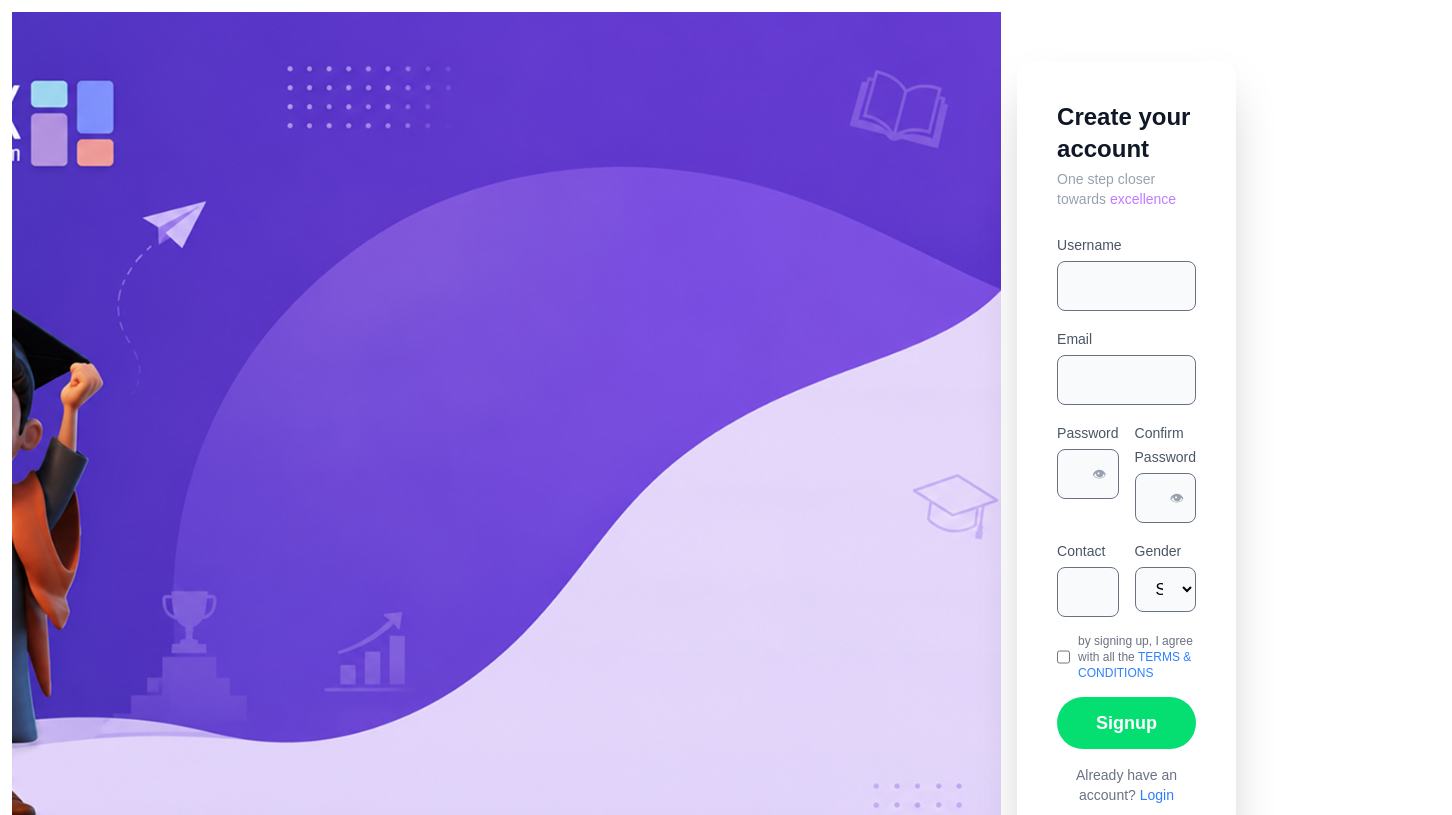
Test case: RegisterPage › should show error if passwords do not match
Type "password123" into the 1st password field named "password".
click(1088, 474); type("password123")  # box [1057, 449, 1119, 499]
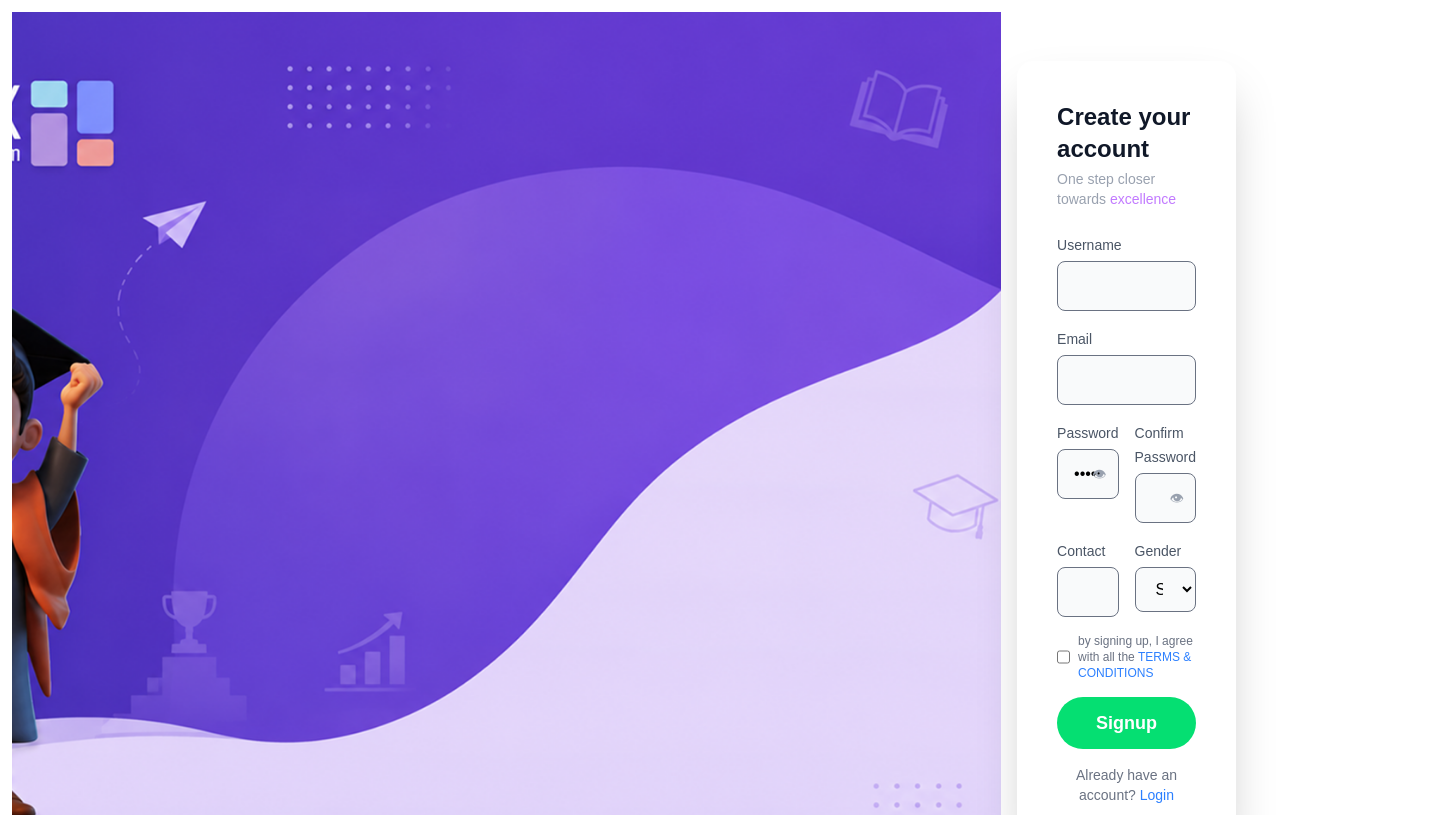
Type "different123" into the password field named "confirmPassword" below "Confirm Password".
click(1165, 498); type("different123")  # box [1134, 473, 1196, 523]
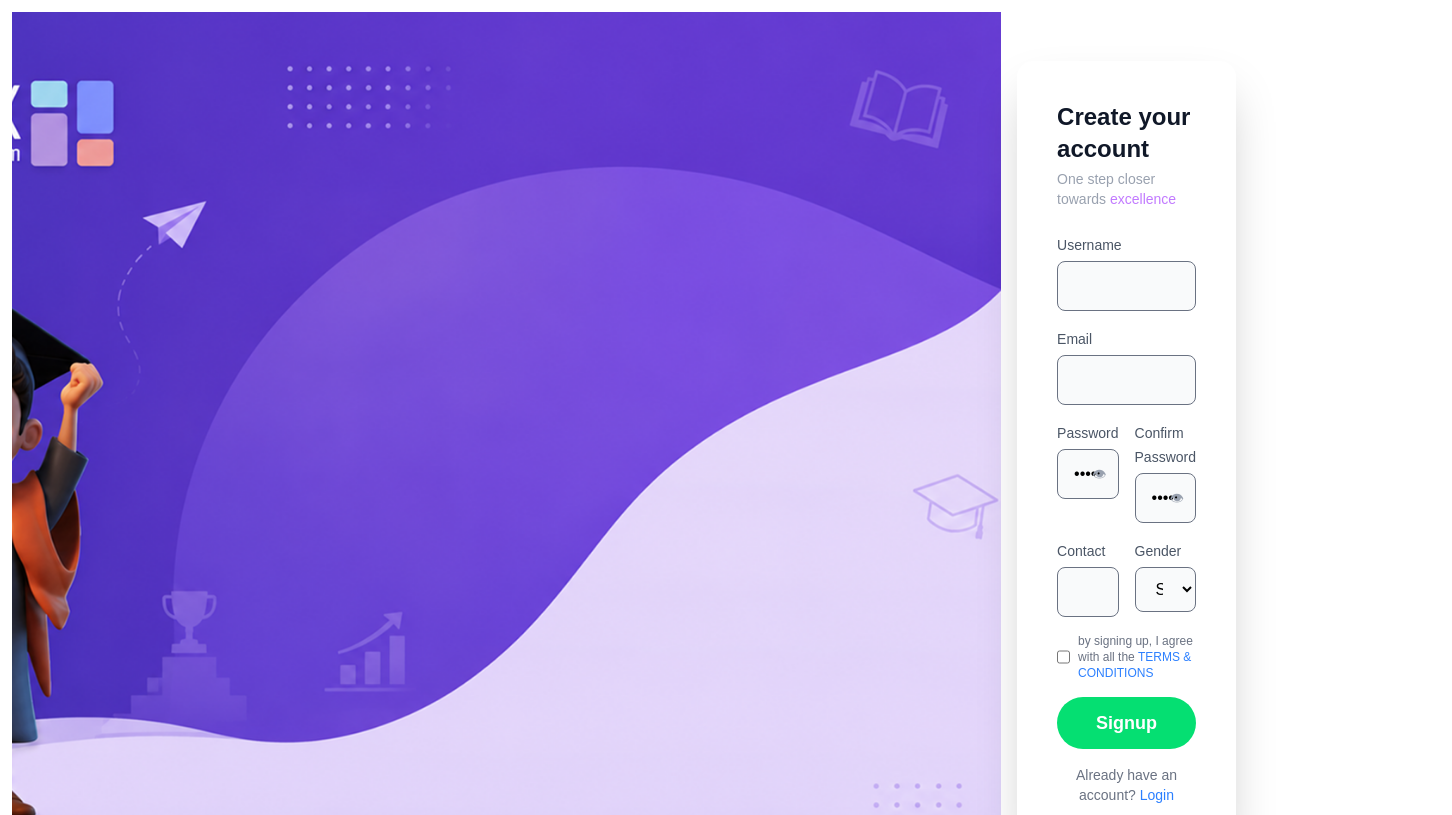
Click the checkbox.
click(1064, 657)  # box [1057, 649, 1070, 665]
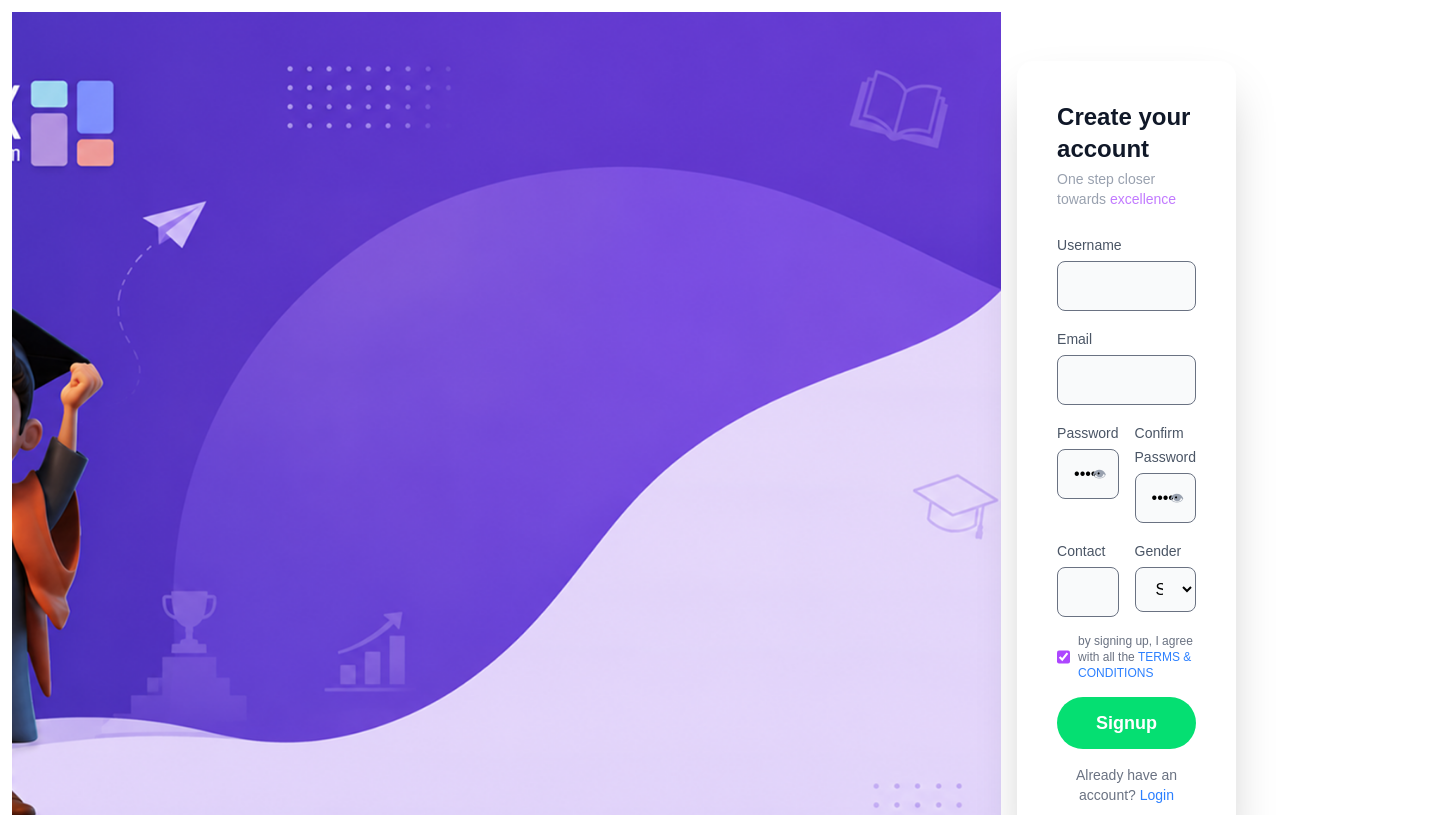
Click the button "Signup".
click(1127, 723)  # box [1057, 697, 1196, 749]
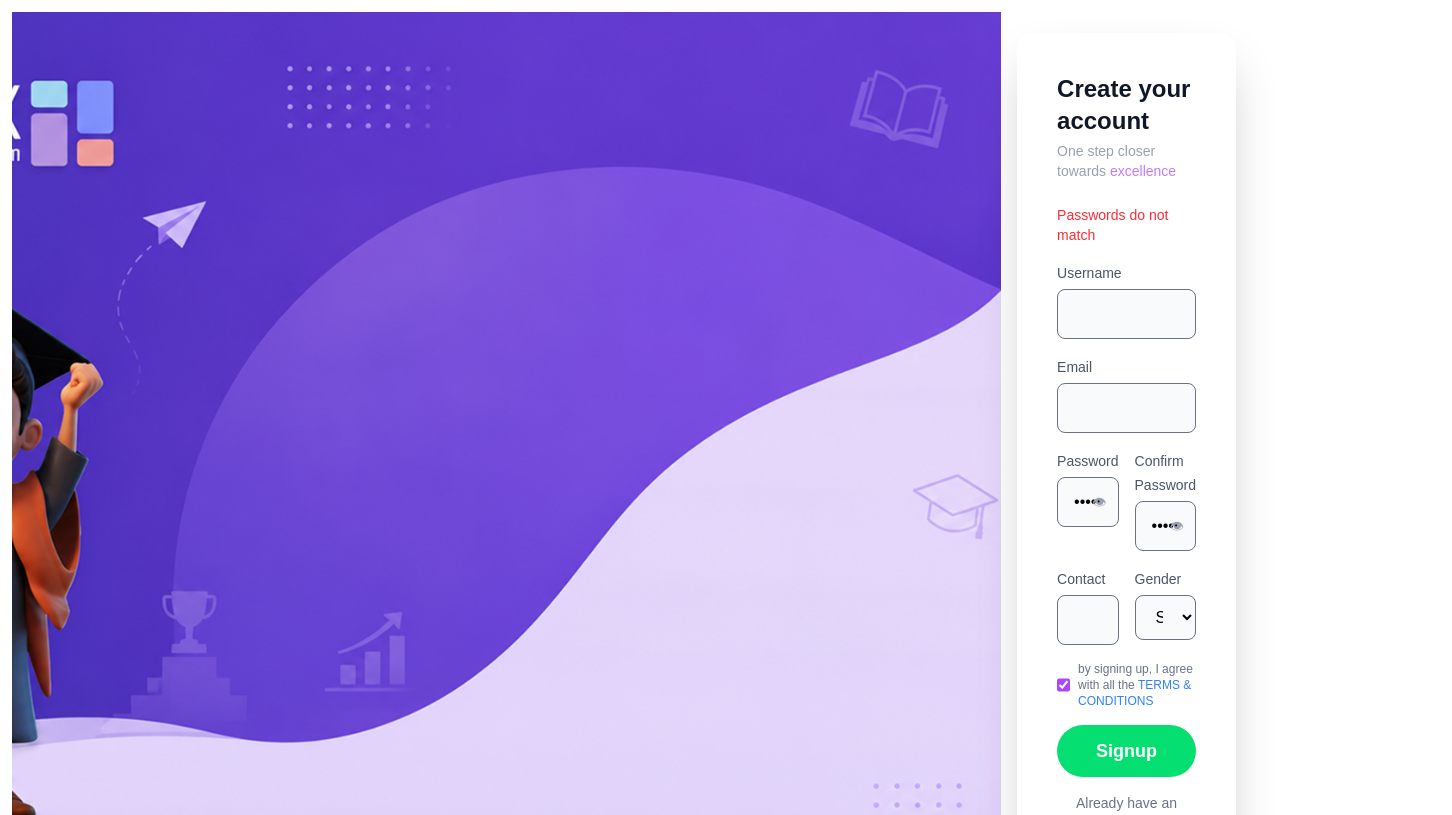
Expected: the text "Passwords do not match" is shown, [1057, 207, 1168, 243]
